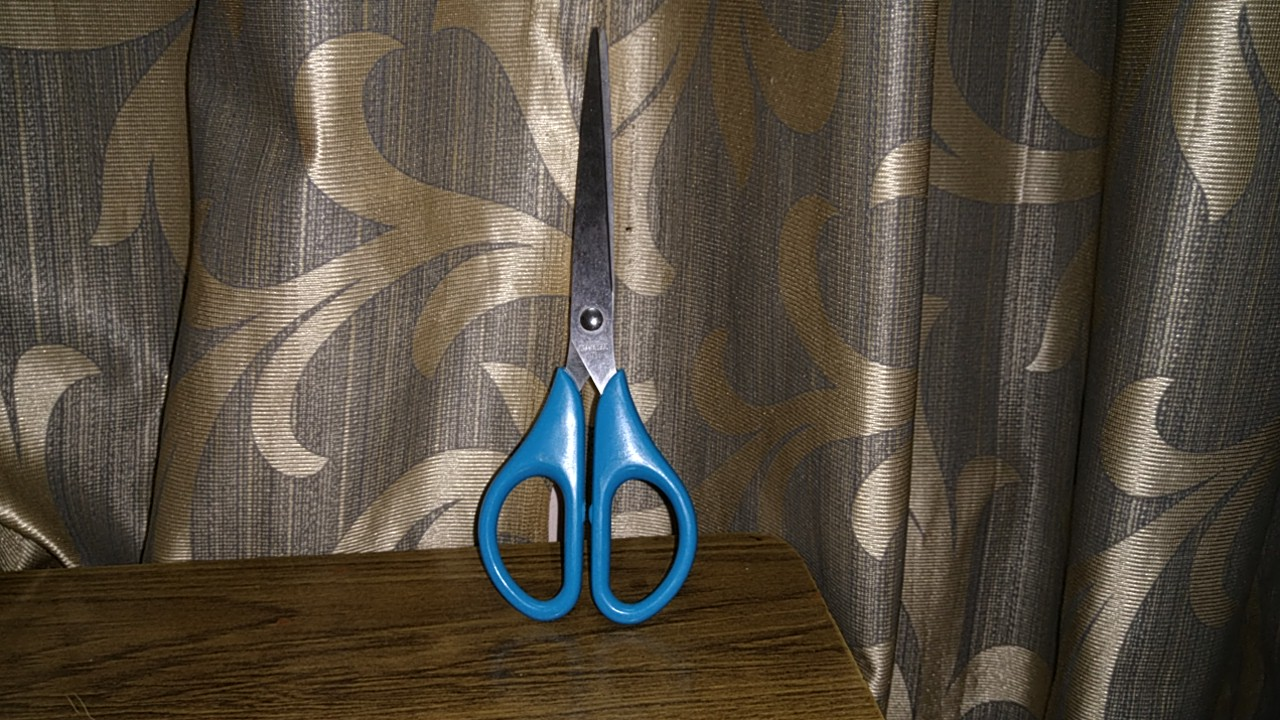scissor: (461, 22, 709, 646)
